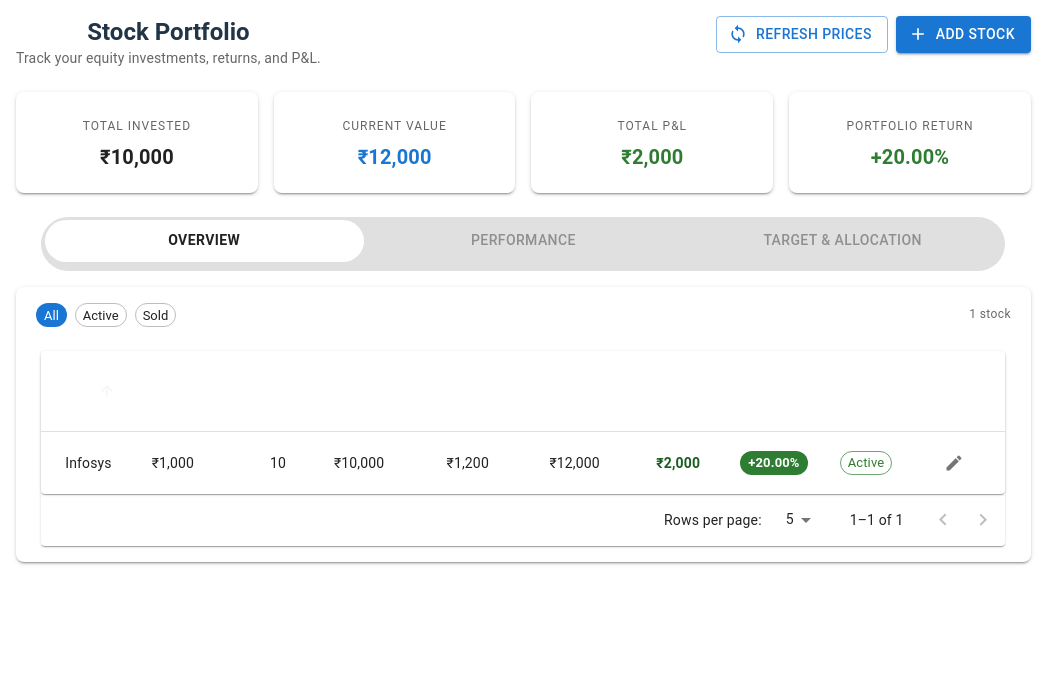
Test case: Stocks › switches to Target & Allocation tab
The width and height of the screenshot is (1049, 679).
Click the tab "Target & Allocation" at (843, 241), box [683,220,1002,262]
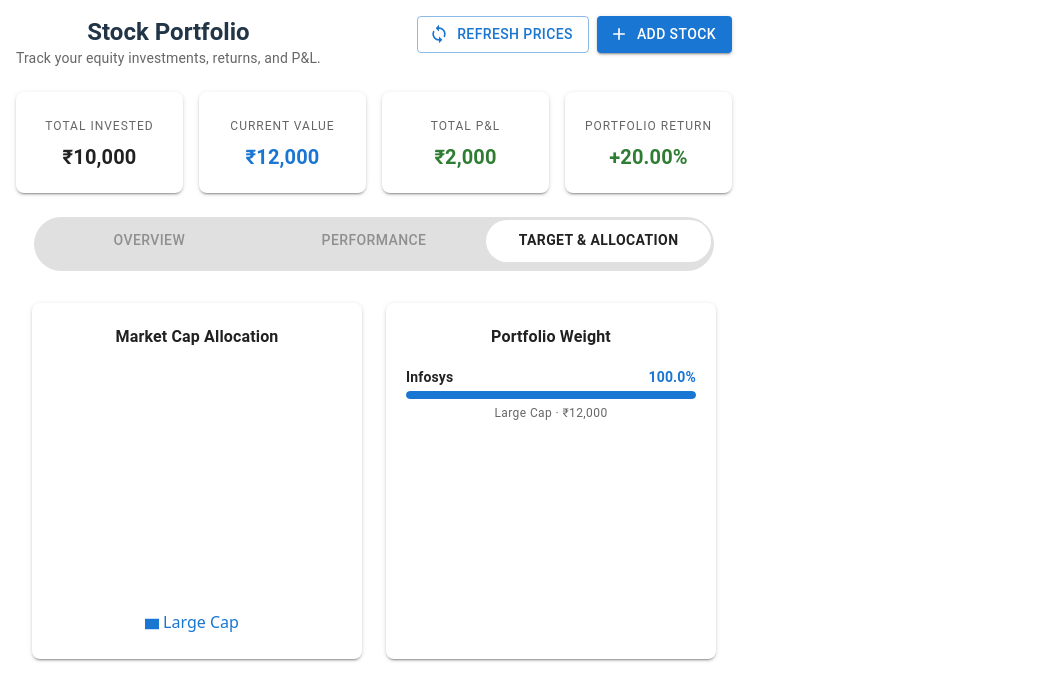
Expected: the heading "Portfolio Weight" is shown, [491,327,611,346]
